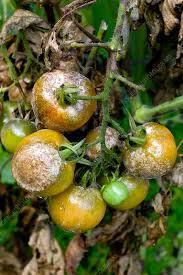tomato late blight: (33, 71, 98, 136), (12, 133, 73, 196), (122, 124, 178, 181), (47, 186, 108, 234), (101, 177, 150, 213)
